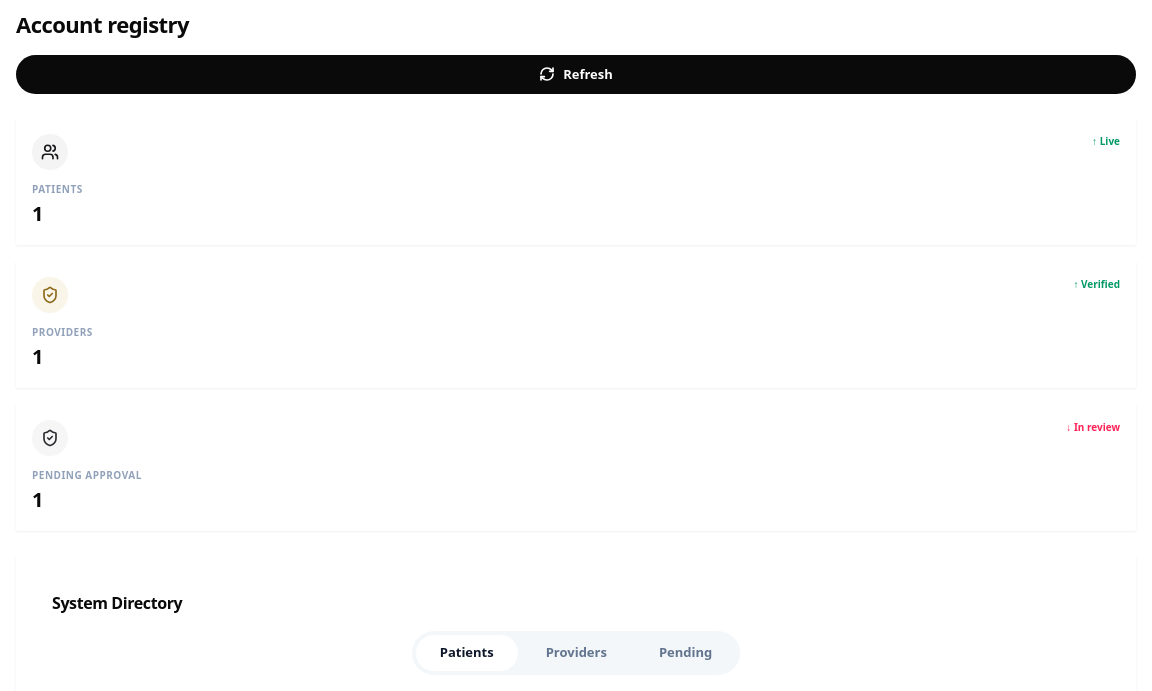
Scenario: AdminUsers ui-v2 › shows live registry data and role badges when flag on
Click the button "Pending" at (686, 653), box [635,635,736,670]
(page scrolled)
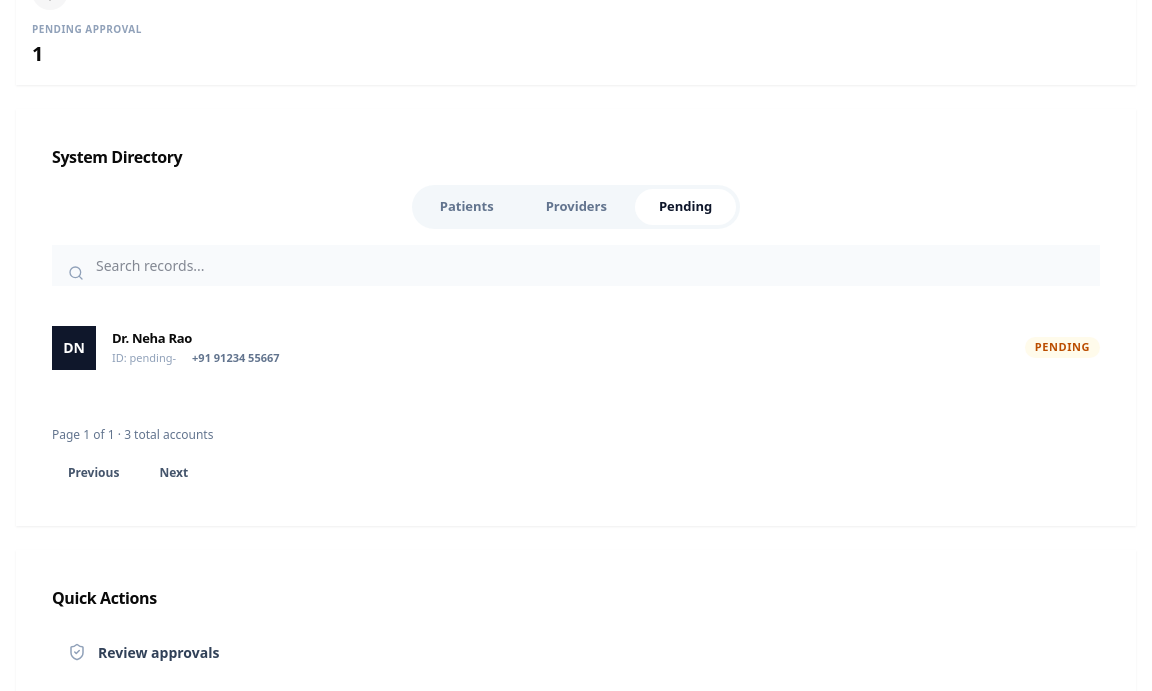
expect the text "Dr. Neha Rao" is shown: met, box [112,328,192,346]
expect the text "Pending" is shown: met, box [1025,337,1100,358]
